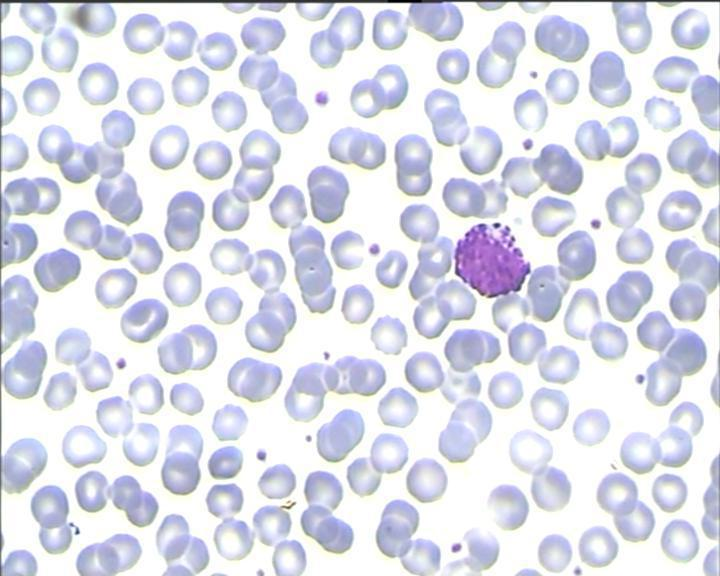baso: (447, 216, 536, 298)
